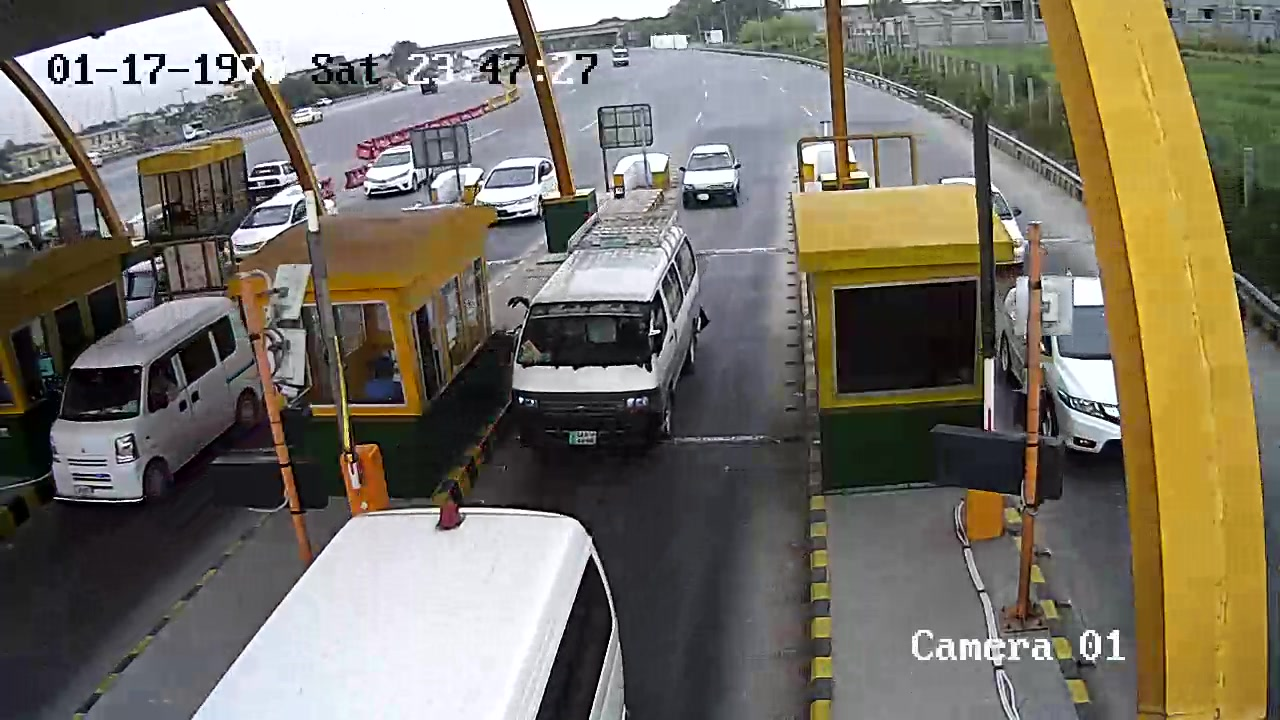F2: (501, 205, 707, 457)
